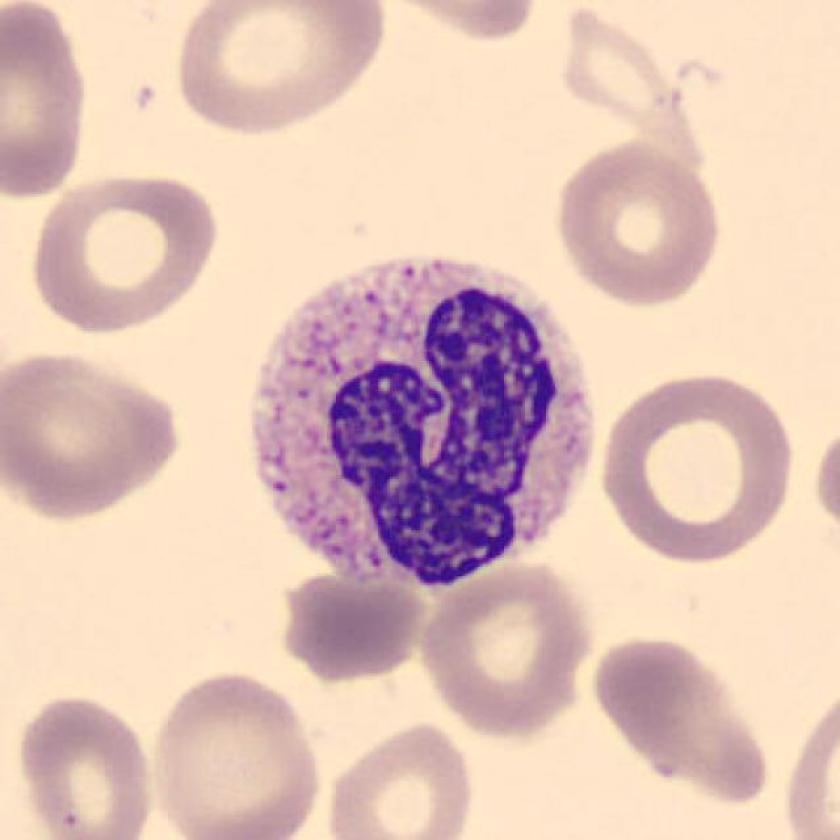neutrophil: (254, 261, 593, 582)
